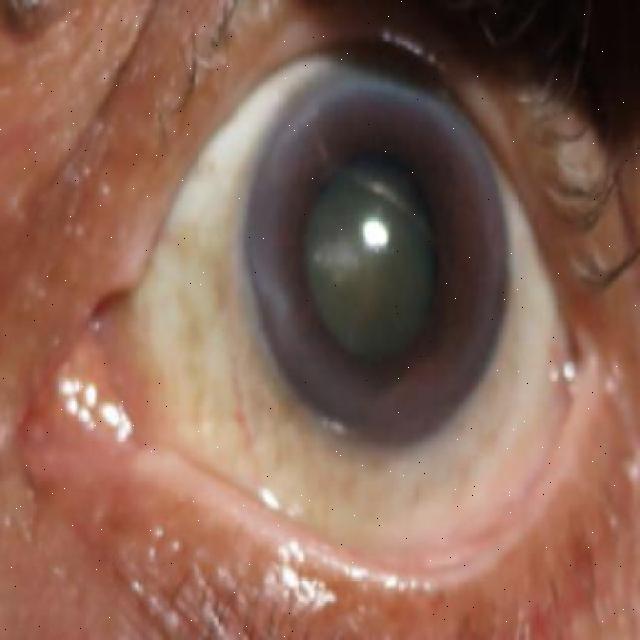Cataract: (239, 61, 517, 442)
